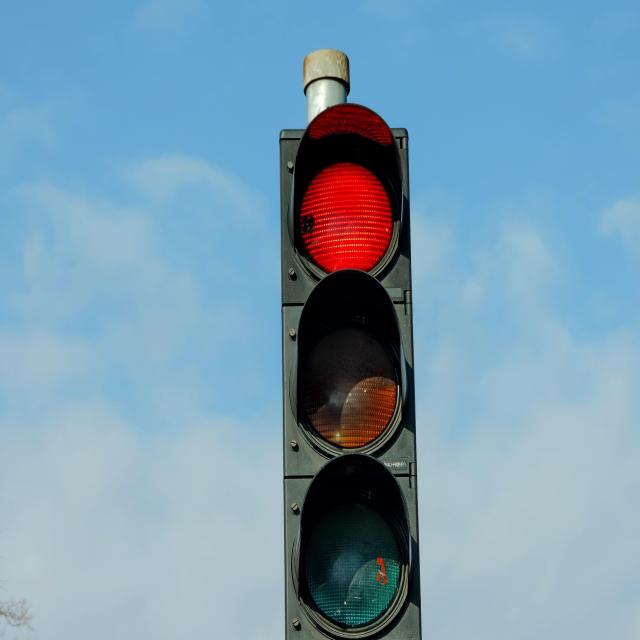red: (297, 117, 393, 274)
